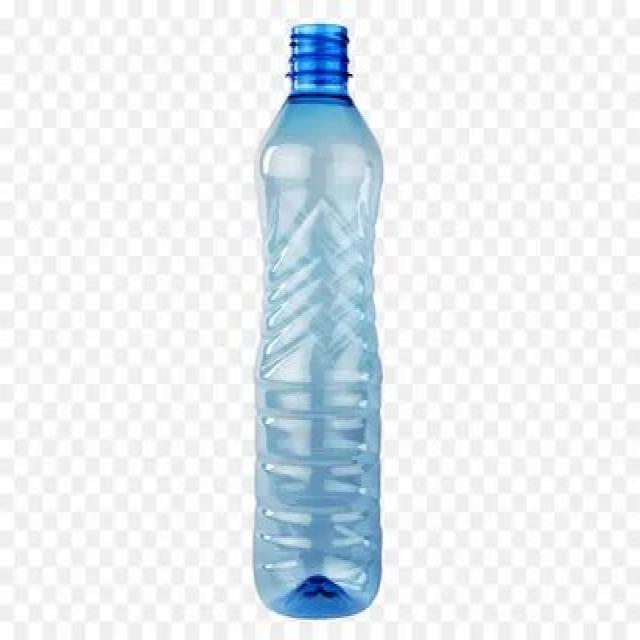blue: (253, 20, 383, 622)
